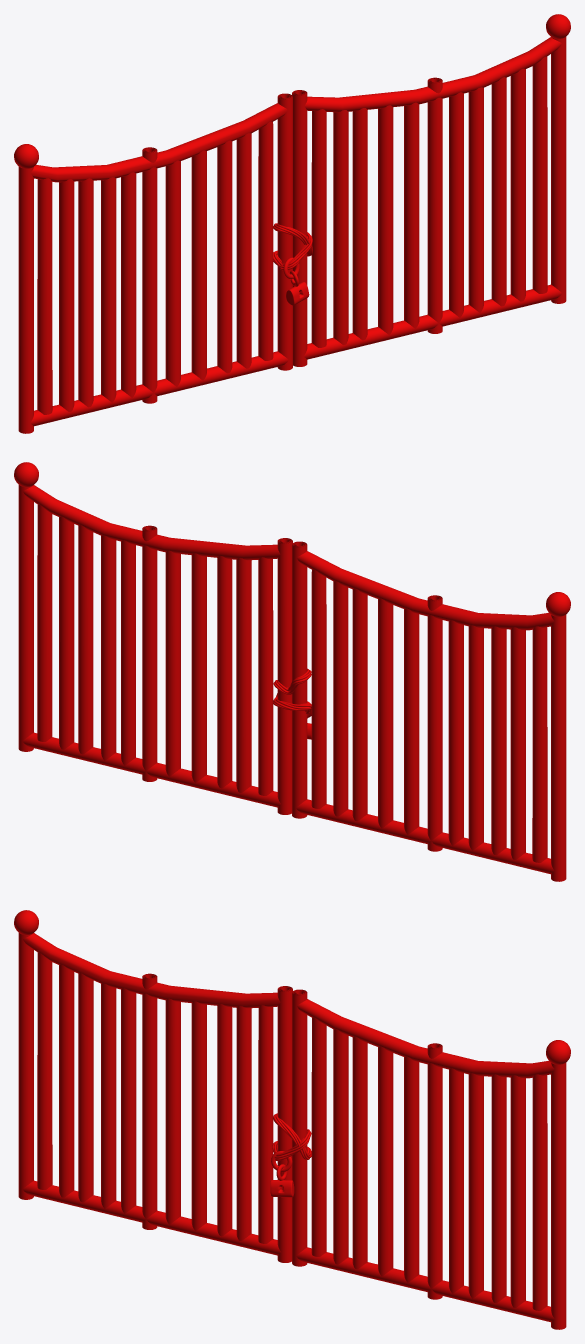
Rendered from Game2Gate.fbx.
3 views of the same model, one above another, from view 1: azimuth 30°, elevation 25°; view 2: azimuth 150°, elevation 25°; view 3: azimuth 330°, elevation 25° (orthographic).
Parts seen in each view (by area): view 1: Gate; view 2: Gate; view 3: Gate.
Part boxes in pixels (box(x1,y1,x2,y2)): Gate: box(14, 14, 570, 433); Gate: box(14, 462, 570, 881); Gate: box(14, 910, 570, 1329).
Size of the model in its own units: 13.98 by 6.88 by 0.817.
